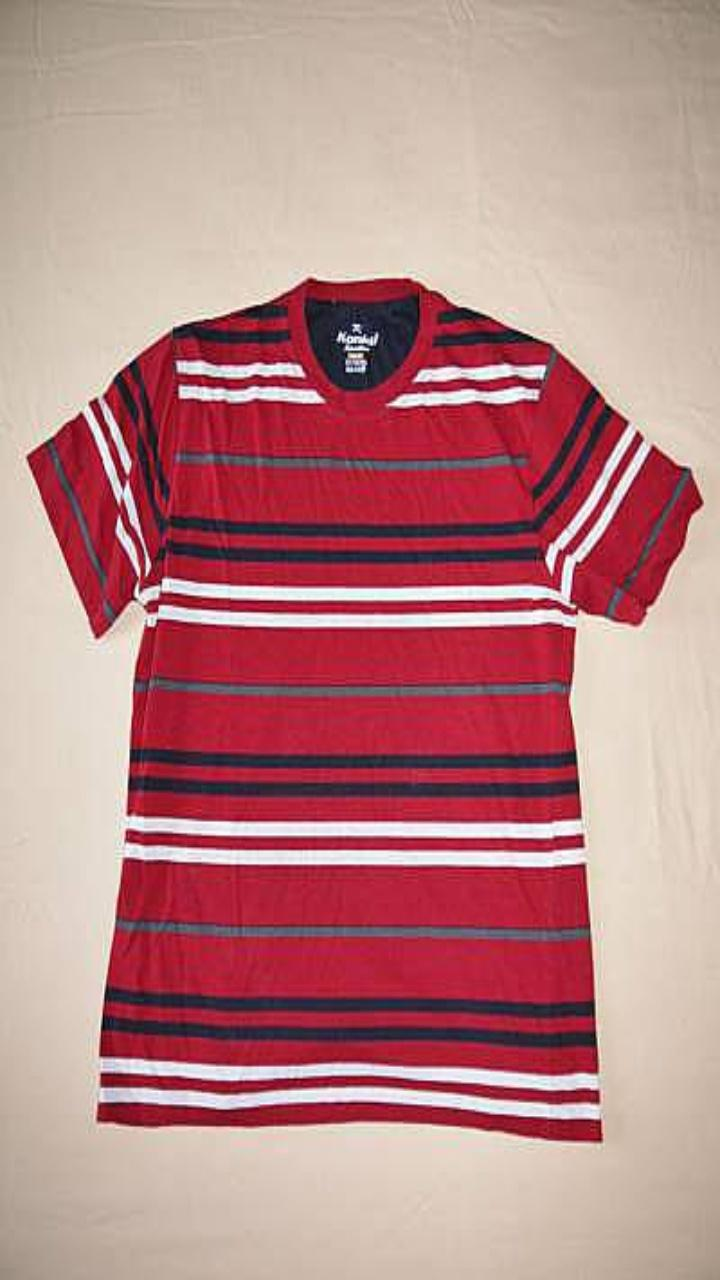T-Shirt: (26, 277, 701, 1141)
